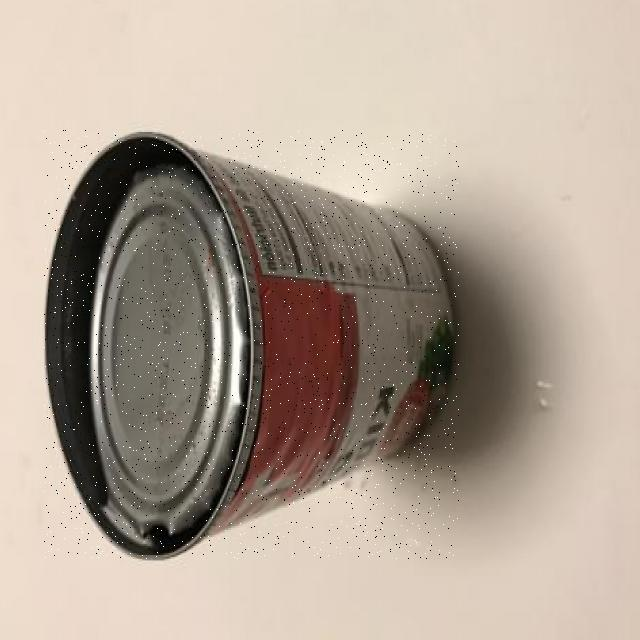metal: (44, 130, 459, 559)
